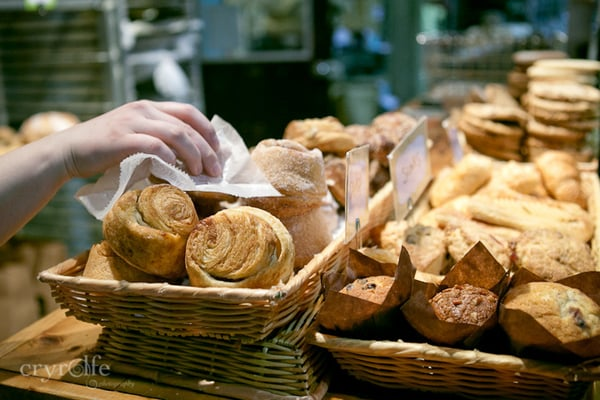pizza: (0, 99, 223, 249)
